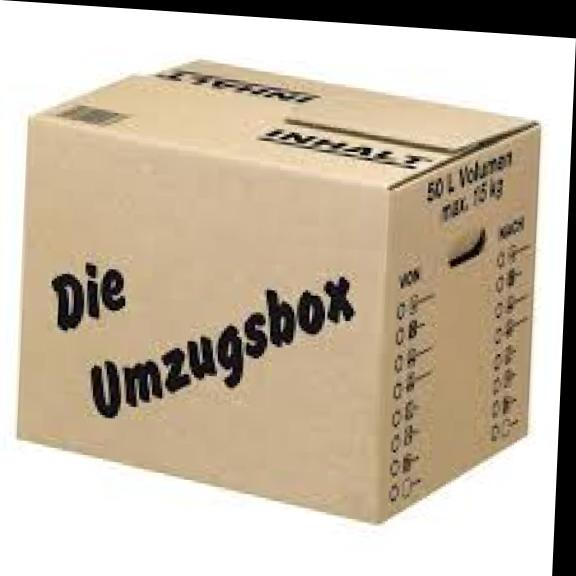Kertas: (20, 62, 541, 521)
